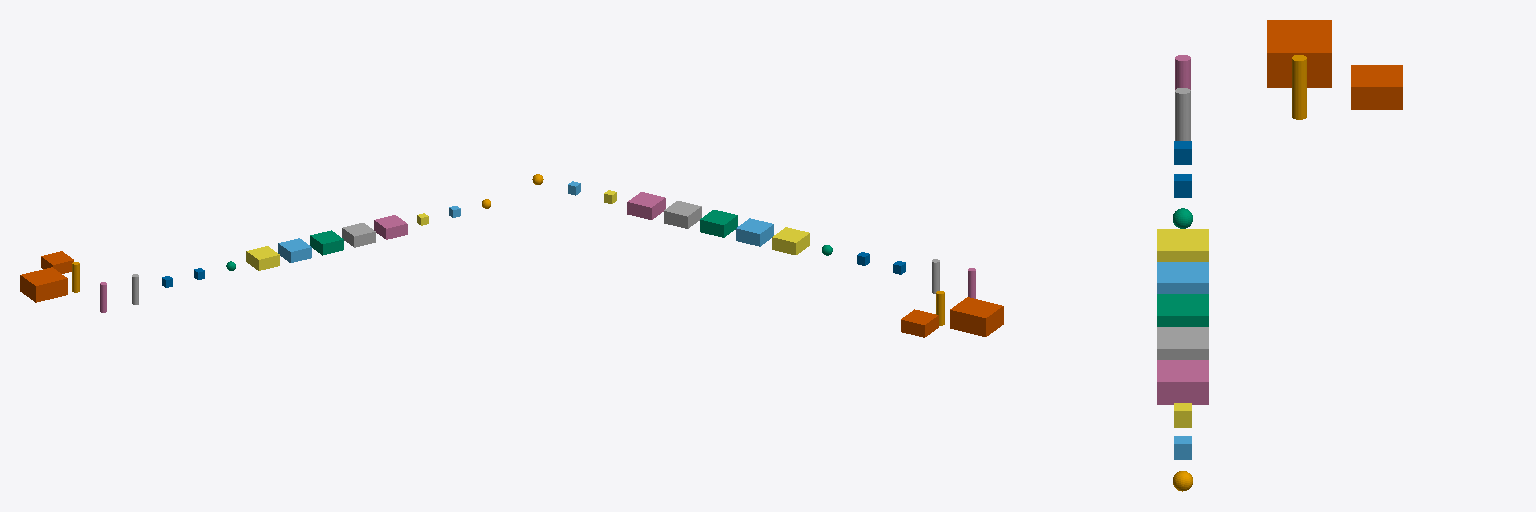
robot.urdf — belt_drive_continuously_variable_speed_automatic_transmission:
<?xml version="1.0" ?>
<robot name="belt_drive_continuously_variable_speed_automatic_transmission">
  <link name="change_direction_gear_train">
    <visual>
      <geometry>
        <sphere radius="0.008"/>
      </geometry>
    </visual>
  </link>
  <link name="clutch">
    <visual>
      <geometry>
        <box size="0.014 0.014 0.014"/>
      </geometry>
    </visual>
  </link>
  <link name="cvt_means">
    <visual>
      <geometry>
        <sphere radius="0.008"/>
      </geometry>
    </visual>
  </link>
  <link name="endless_belt">
    <visual>
      <geometry>
        <box size="0.014 0.014 0.014"/>
      </geometry>
    </visual>
  </link>
  <link name="first_means">
    <visual>
      <geometry>
        <box size="0.014 0.014 0.014"/>
      </geometry>
    </visual>
  </link>
  <link name="housing">
    <visual>
      <geometry>
        <box size="0.06 0.05 0.03"/>
      </geometry>
    </visual>
  </link>
  <link name="input_shaft">
    <visual>
      <geometry>
        <cylinder radius="0.006" length="0.05"/>
      </geometry>
    </visual>
  </link>
  <link name="intermediate_shaft">
    <visual>
      <geometry>
        <cylinder radius="0.006" length="0.05"/>
      </geometry>
    </visual>
  </link>
  <link name="output_shaft">
    <visual>
      <geometry>
        <cylinder radius="0.006" length="0.05"/>
      </geometry>
    </visual>
  </link>
  <link name="primary_fixed_flange">
    <visual>
      <geometry>
        <box size="0.04 0.04 0.02"/>
      </geometry>
    </visual>
  </link>
  <link name="primary_movable_flange">
    <visual>
      <geometry>
        <box size="0.04 0.04 0.02"/>
      </geometry>
    </visual>
  </link>
  <link name="primary_pulley">
    <visual>
      <geometry>
        <box size="0.04 0.04 0.02"/>
      </geometry>
    </visual>
  </link>
  <link name="second_means">
    <visual>
      <geometry>
        <box size="0.014 0.014 0.014"/>
      </geometry>
    </visual>
  </link>
  <link name="secondary_fixed_flange">
    <visual>
      <geometry>
        <box size="0.04 0.04 0.02"/>
      </geometry>
    </visual>
  </link>
  <link name="secondary_movable_flange">
    <visual>
      <geometry>
        <box size="0.04 0.04 0.02"/>
      </geometry>
    </visual>
  </link>
  <link name="secondary_pulley">
    <visual>
      <geometry>
        <box size="0.04 0.04 0.02"/>
      </geometry>
    </visual>
  </link>
  <joint name="_attach_housing_to_change_direction_gear_train" type="fixed">
    <parent link="housing"/>
    <child link="change_direction_gear_train"/>
    <origin xyz="0.7800 -0.0900 0.0000" rpy="0 0 0"/>
  </joint>
  <joint name="_attach_housing_to_clutch" type="fixed">
    <parent link="housing"/>
    <child link="clutch"/>
    <origin xyz="0.7200 -0.0900 0.0000" rpy="0 0 0"/>
  </joint>
  <joint name="_attach_housing_to_cvt_means" type="fixed">
    <parent link="housing"/>
    <child link="cvt_means"/>
    <origin xyz="0.3000 -0.0900 0.0000" rpy="0 0 0"/>
  </joint>
  <joint name="_attach_housing_to_endless_belt" type="fixed">
    <parent link="housing"/>
    <child link="endless_belt"/>
    <origin xyz="0.6600 -0.0900 0.0000" rpy="0 0 0"/>
  </joint>
  <joint name="_attach_housing_to_first_means" type="fixed">
    <parent link="housing"/>
    <child link="first_means"/>
    <origin xyz="0.1800 -0.0900 0.0000" rpy="0 0 0"/>
  </joint>
  <joint name="_attach_housing_to_input_shaft" type="fixed">
    <parent link="housing"/>
    <child link="input_shaft"/>
    <origin xyz="0.0600 -0.0900 0.0000" rpy="0 0 0"/>
  </joint>
  <joint name="_attach_housing_to_intermediate_shaft" type="fixed">
    <parent link="housing"/>
    <child link="intermediate_shaft"/>
    <origin xyz="0.1200 -0.0900 0.0000" rpy="0 0 0"/>
  </joint>
  <joint name="_attach_housing_to_output_shaft" type="fixed">
    <parent link="housing"/>
    <child link="output_shaft"/>
    <origin xyz="0.0600 0.0000 0.0000" rpy="0 0 0"/>
  </joint>
  <joint name="_attach_housing_to_primary_fixed_flange" type="fixed">
    <parent link="housing"/>
    <child link="primary_fixed_flange"/>
    <origin xyz="0.4200 -0.0900 0.0000" rpy="0 0 0"/>
  </joint>
  <joint name="_attach_housing_to_primary_movable_flange" type="fixed">
    <parent link="housing"/>
    <child link="primary_movable_flange"/>
    <origin xyz="0.4800 -0.0900 0.0000" rpy="0 0 0"/>
  </joint>
  <joint name="_attach_housing_to_primary_pulley" type="fixed">
    <parent link="housing"/>
    <child link="primary_pulley"/>
    <origin xyz="0.3600 -0.0900 0.0000" rpy="0 0 0"/>
  </joint>
  <joint name="_attach_housing_to_second_means" type="fixed">
    <parent link="housing"/>
    <child link="second_means"/>
    <origin xyz="0.2400 -0.0900 0.0000" rpy="0 0 0"/>
  </joint>
  <joint name="_attach_housing_to_secondary_movable_flange" type="fixed">
    <parent link="housing"/>
    <child link="secondary_movable_flange"/>
    <origin xyz="0.6000 -0.0900 0.0000" rpy="0 0 0"/>
  </joint>
  <joint name="_attach_housing_to_secondary_pulley" type="fixed">
    <parent link="housing"/>
    <child link="secondary_pulley"/>
    <origin xyz="0.5400 -0.0900 0.0000" rpy="0 0 0"/>
  </joint>
  <joint name="_attach_output_shaft_to_secondary_fixed_flange" type="fixed">
    <parent link="output_shaft"/>
    <child link="secondary_fixed_flange"/>
    <origin xyz="0.0000 0.0600 0.0000" rpy="0 0 0"/>
  </joint>
</robot>

--- What the picture shows (computed from the rendered views, not written in the file) ---
3 views of the same robot in one strip: view 1: azimuth 30°, elevation 25°; view 2: azimuth 150°, elevation 25°; view 3: azimuth 270°, elevation 25° (orthographic).
Robot: belt_drive_continuously_variable_speed_automatic_transmission — 16 links, 15 joints (15 fixed); root link housing; default pose: all joints at 0.
Links seen in each view (by area): view 1: housing, primary_pulley, secondary_pulley, primary_movable_flange, secondary_movable_flange, primary_fixed_flange; view 2: housing, secondary_movable_flange, primary_pulley, secondary_fixed_flange, secondary_pulley, primary_fixed_flange, primary_movable_flange; view 3: housing, secondary_fixed_flange, secondary_movable_flange, primary_movable_flange, primary_pulley, secondary_pulley, primary_fixed_flange, output_shaft, intermediate_shaft, input_shaft.
Boxes of the visible links, bbox=[...] form: housing: bbox=[20, 267, 67, 302]; primary_pulley: bbox=[246, 246, 279, 270]; secondary_pulley: bbox=[342, 223, 375, 247]; primary_movable_flange: bbox=[310, 230, 343, 255]; secondary_movable_flange: bbox=[374, 215, 407, 239]; primary_fixed_flange: bbox=[278, 238, 311, 262]; housing: bbox=[950, 297, 1003, 336]; secondary_movable_flange: bbox=[627, 192, 665, 219]; primary_pulley: bbox=[772, 227, 809, 254]; secondary_fixed_flange: bbox=[901, 309, 938, 337]; secondary_pulley: bbox=[664, 201, 701, 228]; primary_fixed_flange: bbox=[736, 218, 773, 246]; primary_movable_flange: bbox=[700, 210, 737, 237]; housing: bbox=[1267, 20, 1331, 87]; secondary_fixed_flange: bbox=[1351, 65, 1402, 109]; secondary_movable_flange: bbox=[1157, 360, 1208, 404]; primary_movable_flange: bbox=[1157, 294, 1208, 326]; primary_pulley: bbox=[1157, 229, 1208, 261]; secondary_pulley: bbox=[1157, 327, 1208, 359]; primary_fixed_flange: bbox=[1157, 262, 1208, 293]; output_shaft: bbox=[1292, 55, 1306, 119]; intermediate_shaft: bbox=[1175, 88, 1190, 140]; input_shaft: bbox=[1175, 55, 1190, 89].
Bounding box of the posed robot: 0.818 × 0.19 × 0.05 m (x, y, z).
Geometry: primitives only (box / cylinder / sphere), no mesh files.
